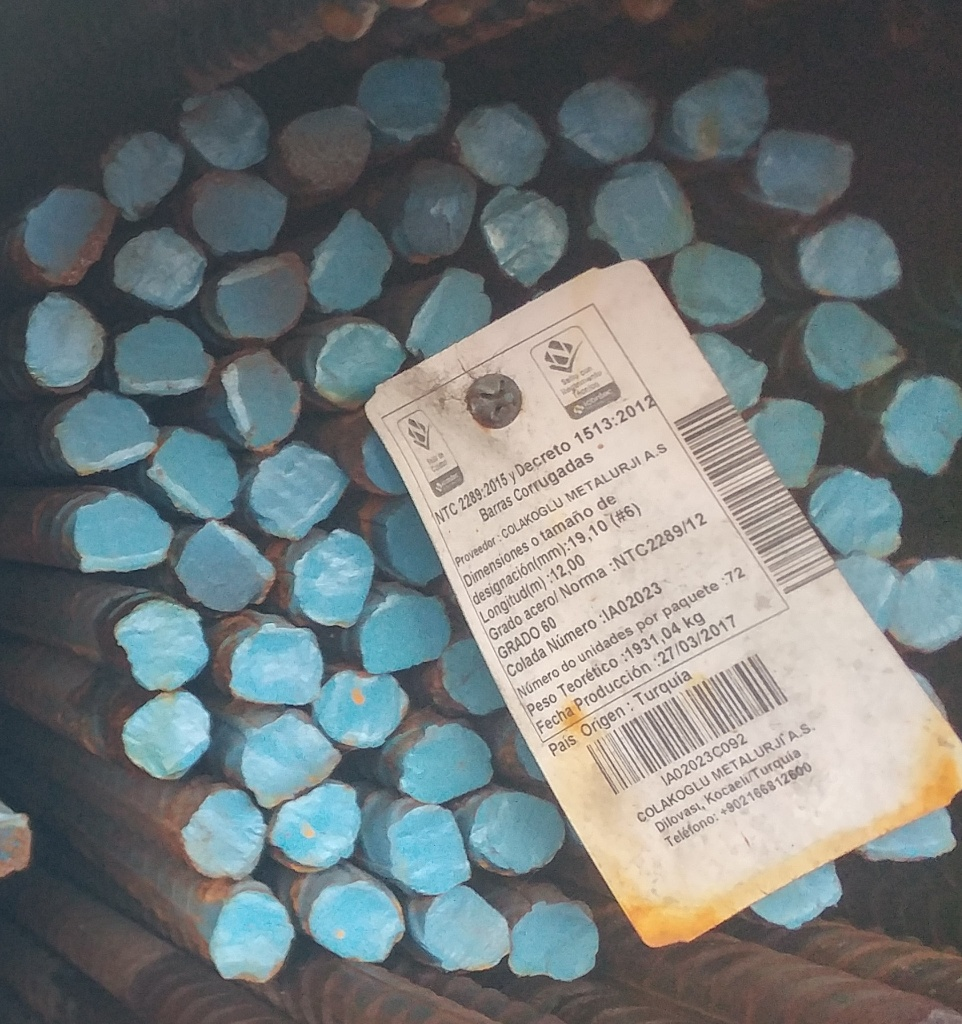dipstick: (598, 165, 694, 257), (807, 301, 908, 385), (180, 521, 275, 610), (151, 424, 239, 520), (55, 392, 156, 475), (674, 69, 767, 159), (810, 471, 905, 559), (758, 127, 854, 214), (311, 206, 392, 309), (798, 216, 901, 296), (29, 183, 112, 282), (405, 266, 493, 359), (218, 252, 306, 344), (559, 76, 655, 160), (220, 350, 303, 447), (121, 690, 211, 779), (244, 717, 337, 803), (74, 494, 172, 574), (256, 449, 346, 536), (473, 792, 565, 876), (486, 191, 567, 285), (400, 722, 495, 802), (389, 805, 473, 895), (673, 243, 765, 325), (318, 320, 405, 406), (281, 105, 370, 189), (118, 605, 208, 688), (296, 531, 373, 628), (191, 172, 285, 251), (887, 375, 962, 474), (234, 624, 322, 708), (117, 319, 214, 395), (27, 296, 108, 387), (182, 90, 272, 170), (213, 891, 292, 982), (111, 227, 204, 304), (424, 890, 512, 971), (458, 104, 545, 185), (312, 882, 400, 961), (507, 902, 597, 979), (274, 785, 358, 867), (188, 790, 266, 876), (750, 404, 827, 491), (362, 61, 451, 135), (107, 131, 183, 217), (363, 593, 450, 666), (320, 675, 406, 745), (893, 557, 962, 643), (406, 165, 473, 250), (386, 495, 447, 588)
